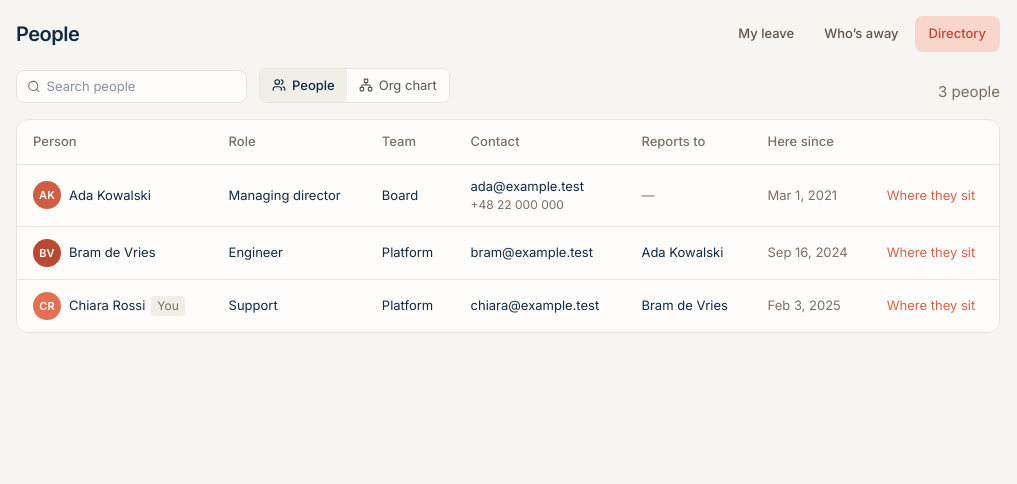
the directory › a row leads to where that person sits, and the address carries it
Click the button "Where they sit" in the row of "BV" at (931, 253), box x1=887 y1=243 x2=975 y2=263
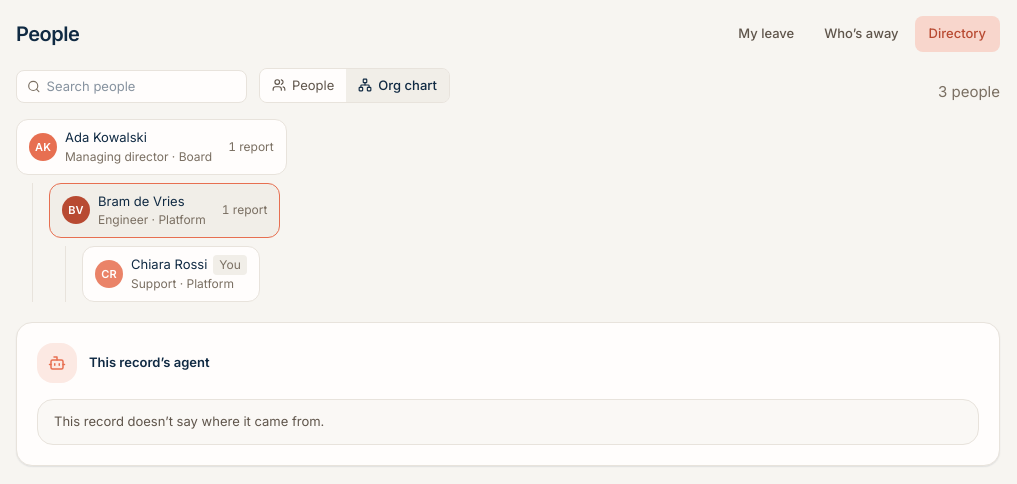
Expected: the text "Ada Kowalski" is shown, x1=65 y1=128 x2=147 y2=148
Expected: the element showing "BV Bram de Vries Engineer · Platform 1 report" is shown, x1=49 y1=182 x2=280 y2=238
